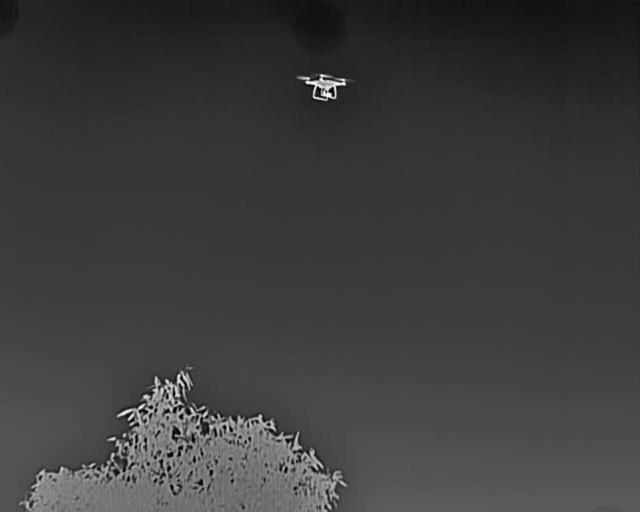DJI-Phantom: (295, 71, 358, 107)
